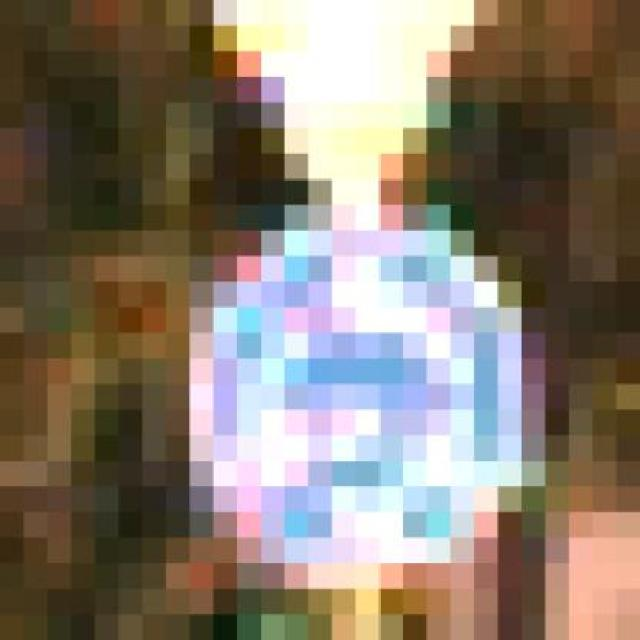Round-About: (119, 178, 638, 616)
